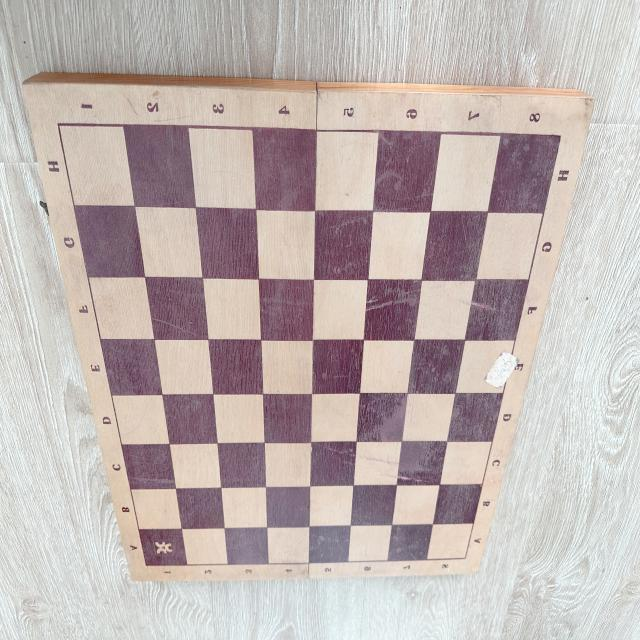chess-table-corners: (550, 124, 572, 149), (49, 112, 68, 136), (142, 561, 150, 570)
